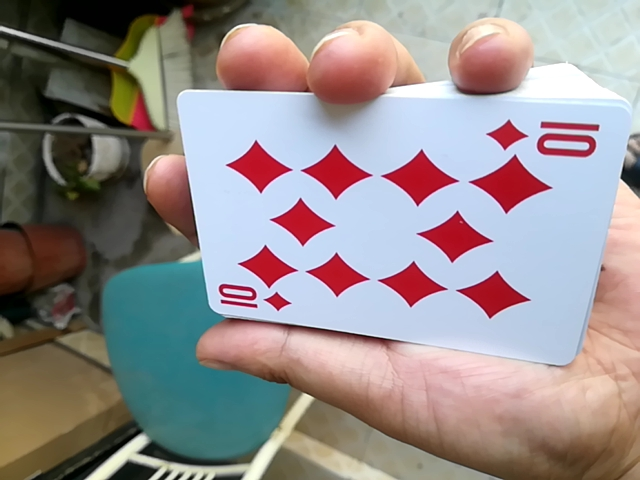fk 10: (170, 72, 636, 371)
